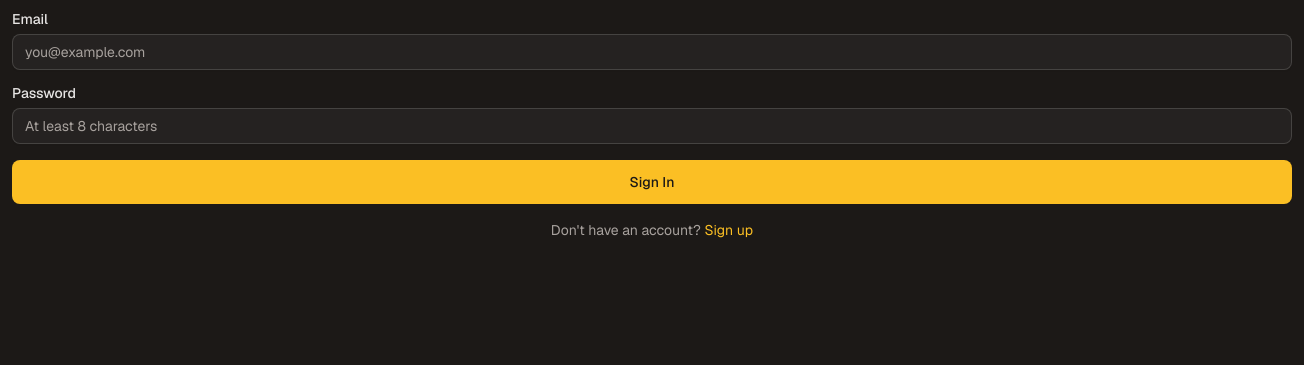
Test: EmailPasswordForm › displays server error on sign-up duplicate email
Step 1. Click the button "Sign up" → (729, 230), box top-left (704, 220), bottom-right (753, 240)
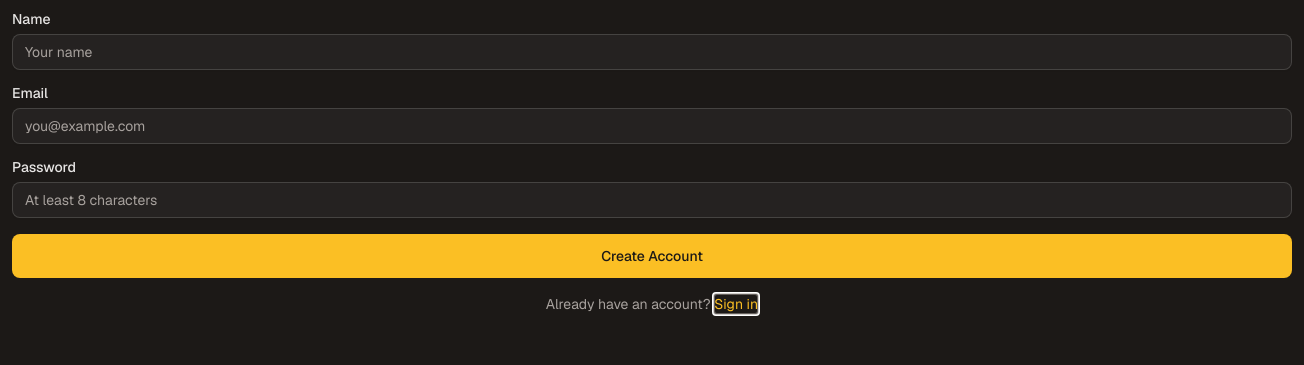
Step 2. Type "Test" into the field labelled "Name" → (652, 52), box top-left (12, 34), bottom-right (1292, 70)
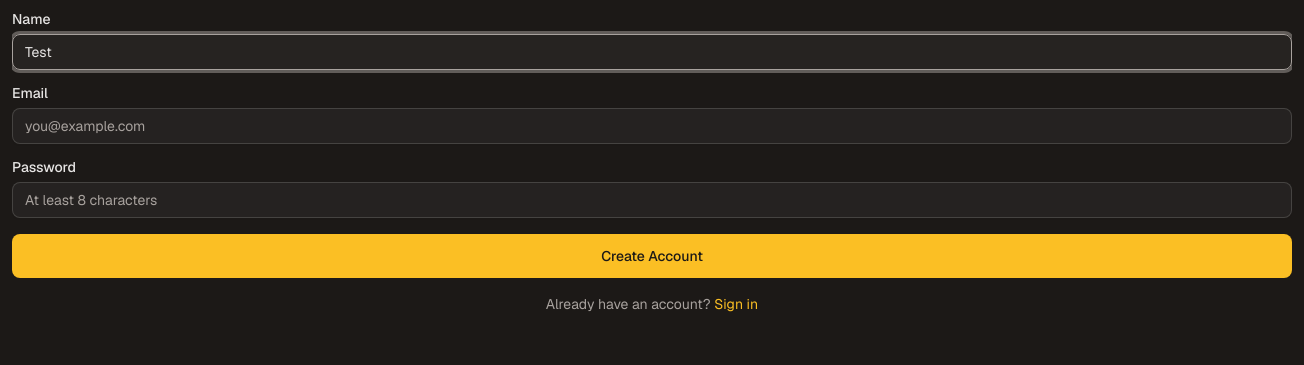
Step 3. Type "existing@example.com" into the field labelled "Email" → (652, 126), box top-left (12, 108), bottom-right (1292, 144)
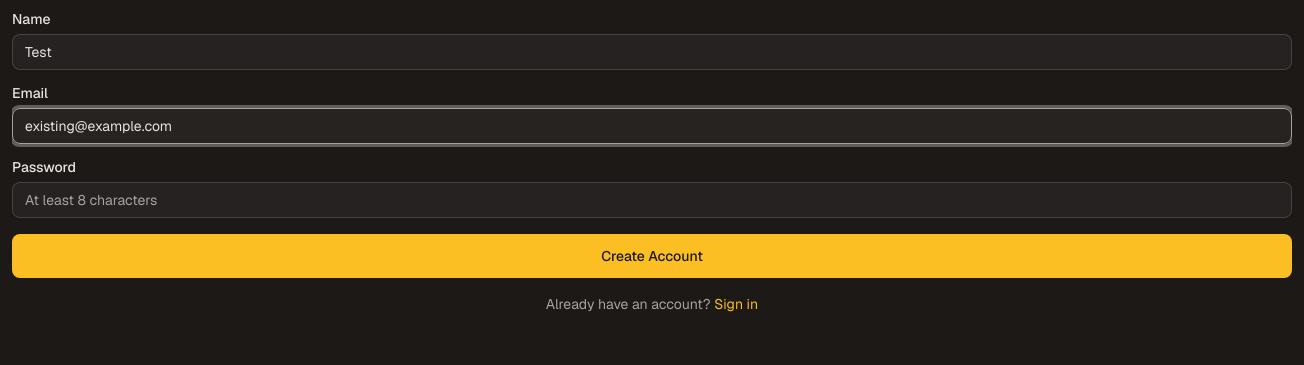
Step 4. Type "password123" into the password field labelled "Password" → (652, 200), box top-left (12, 182), bottom-right (1292, 218)
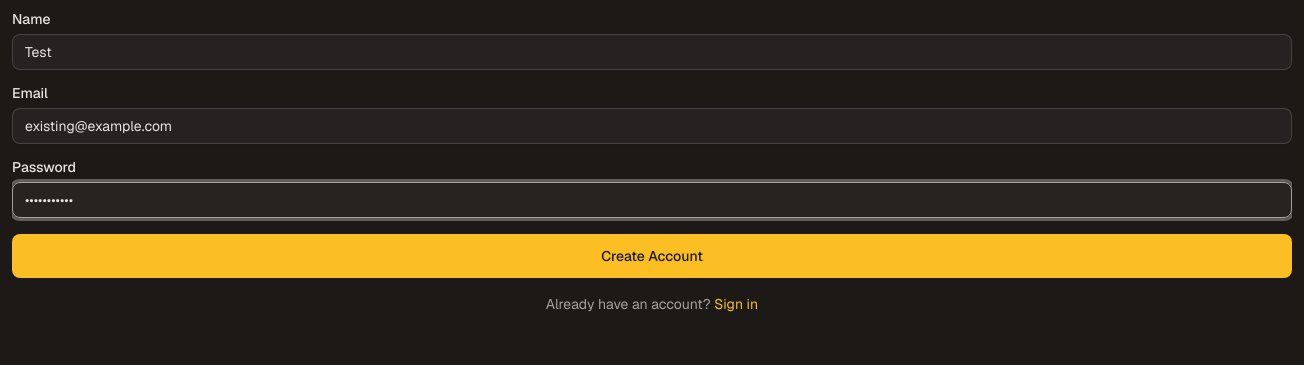
Step 5. Click the button "Create Account" → (652, 256), box top-left (12, 234), bottom-right (1292, 278)
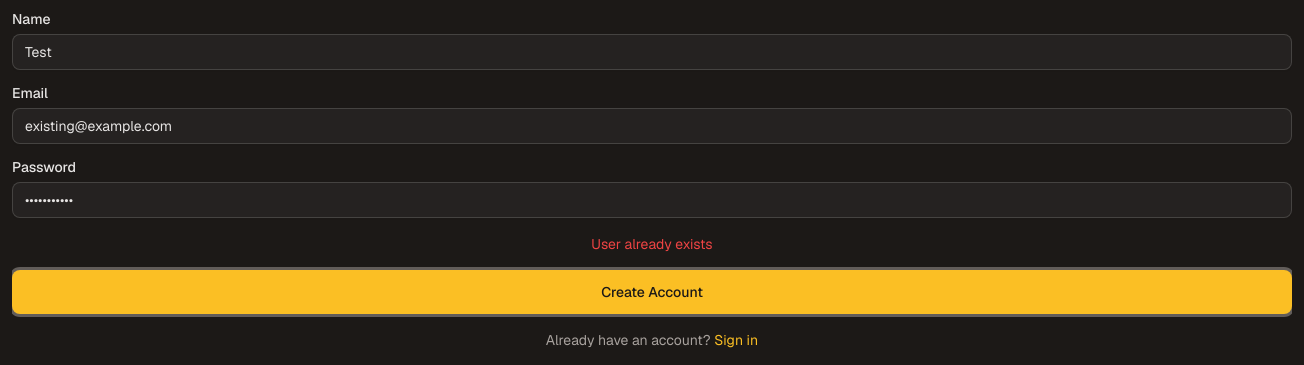
expect the message reads "User already exists": met, box top-left (591, 235), bottom-right (713, 253)
